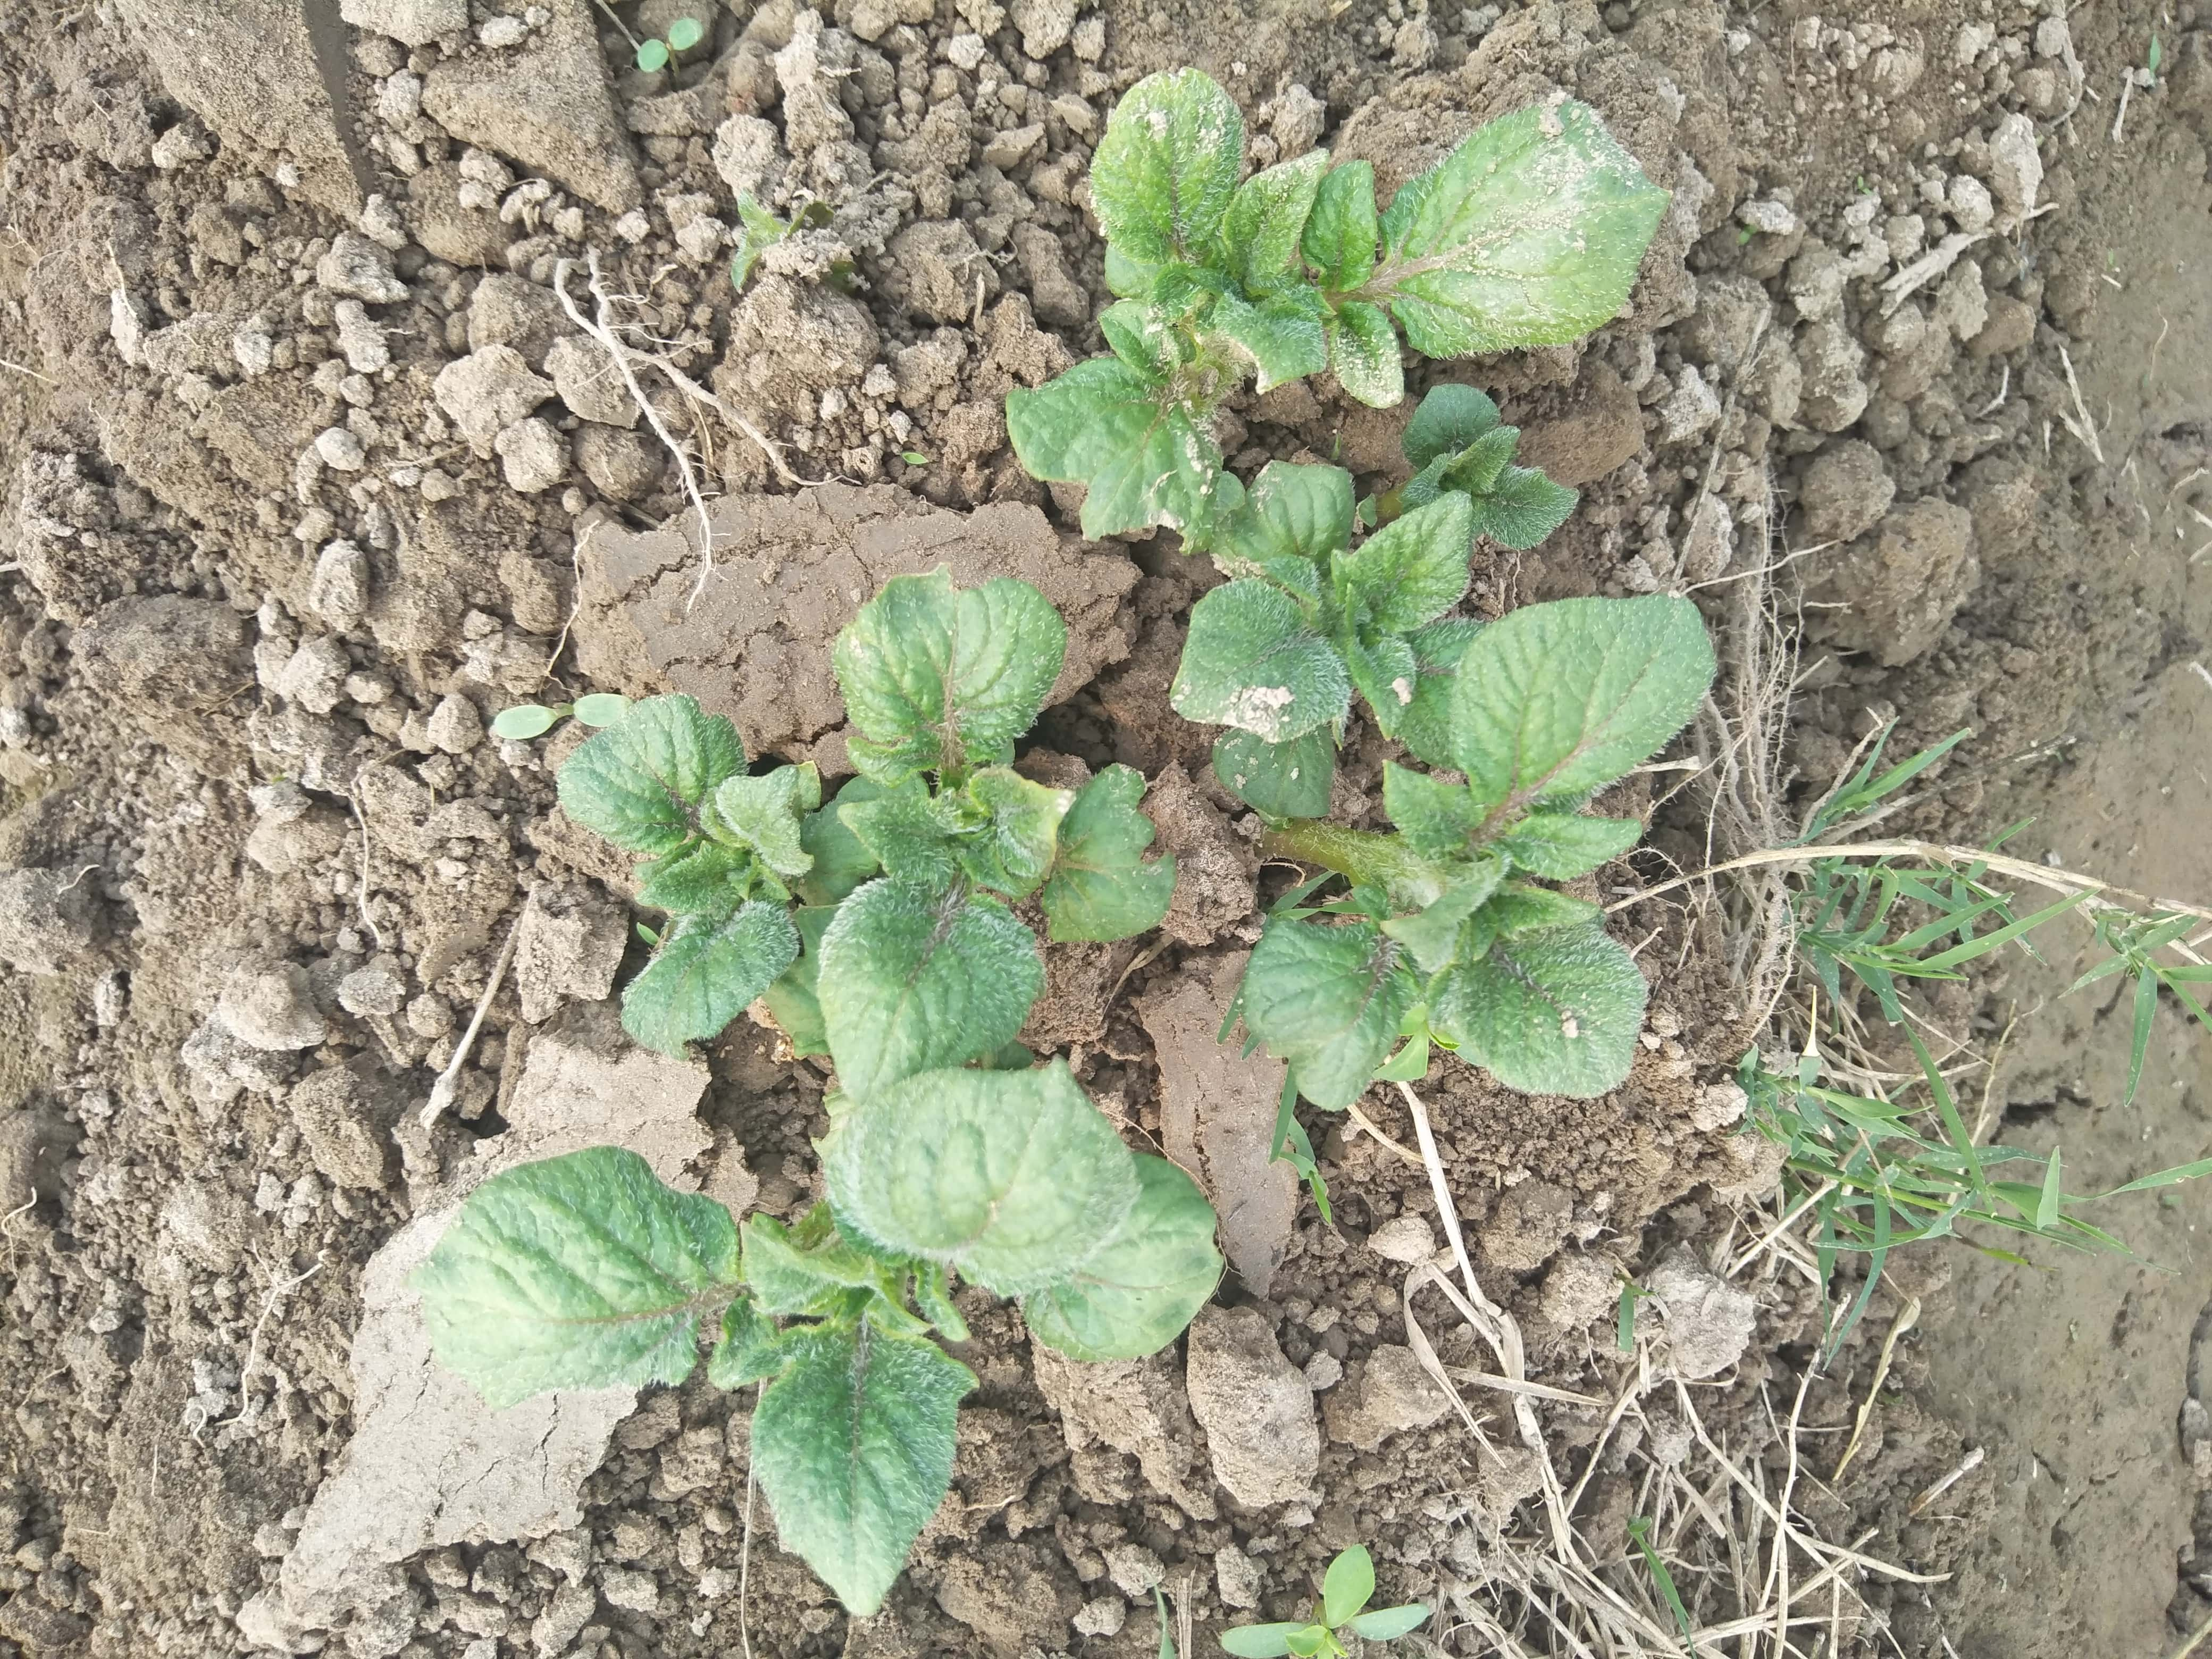daun: (409, 1150, 726, 1378), (826, 1051, 1136, 1276), (1381, 112, 1651, 361), (749, 1323, 958, 1619), (1456, 587, 1717, 814), (829, 565, 1062, 770), (826, 877, 1036, 1091), (1029, 1164, 1212, 1354), (1251, 915, 1411, 1110), (1437, 941, 1639, 1091), (1103, 59, 1245, 261), (1179, 563, 1343, 727), (550, 711, 737, 849), (1029, 770, 1165, 941), (627, 906, 789, 1040), (1062, 390, 1209, 535), (1000, 354, 1153, 483), (1343, 493, 1460, 634), (1228, 141, 1320, 295), (954, 770, 1076, 882), (1238, 453, 1360, 563), (1216, 730, 1338, 819), (723, 760, 815, 863), (845, 793, 958, 877), (1503, 803, 1644, 870), (1378, 767, 1479, 859), (1479, 462, 1578, 552), (1223, 298, 1324, 383), (1400, 387, 1503, 462), (1320, 307, 1397, 403), (1350, 631, 1407, 748)
